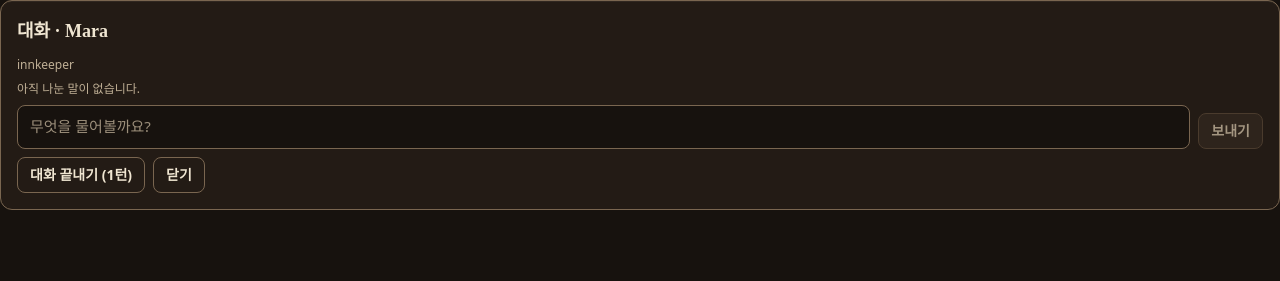
DialoguePanel (US-4.1 / 4.3) › a failed send takes the player's line back and keeps it in the input
The image size is (1280, 281).
Type "누구세요?" into the field with test id "dialogue-input" at (604, 127), box [17,105,1190,149]
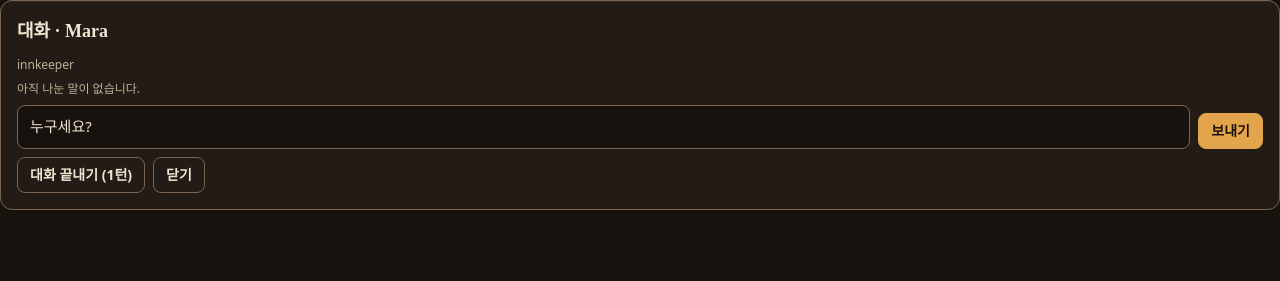
Click the button with test id "dialogue-send-btn" at (1231, 131), box [1198,113,1263,149]
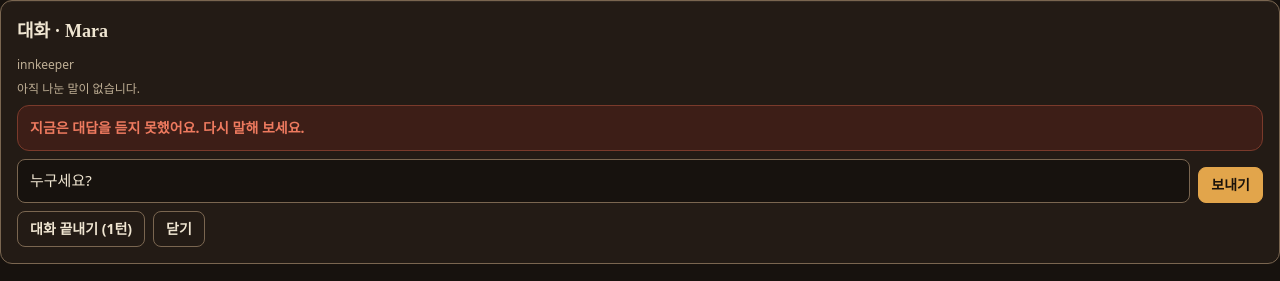
Result: the element with test id "dialogue-error" reads "지금은 대답을 듣지 못했어요. 다시 말해 보세요." at [30,118,304,137]
